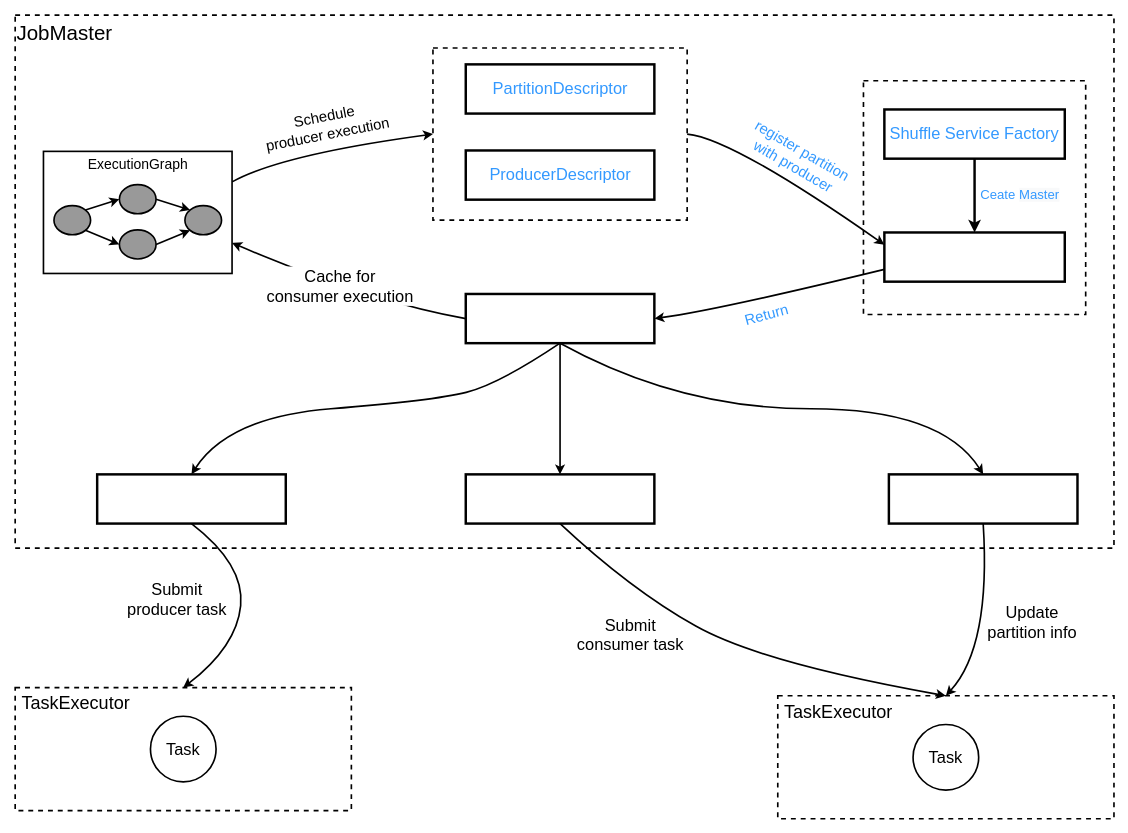
This 1128x833 diagram has some shape labels left out. Here are the shapes that lost their labels. From the top down, the centre of each, then its label:
At (974,256): "Shuffle Master".
At (559,318): "ShuffleDescriptor".
At (191,498): "Result Partition deployment descriptor".
At (559,498): "InputGate deployment descriptor".
At (982,498): "Partition Info".
